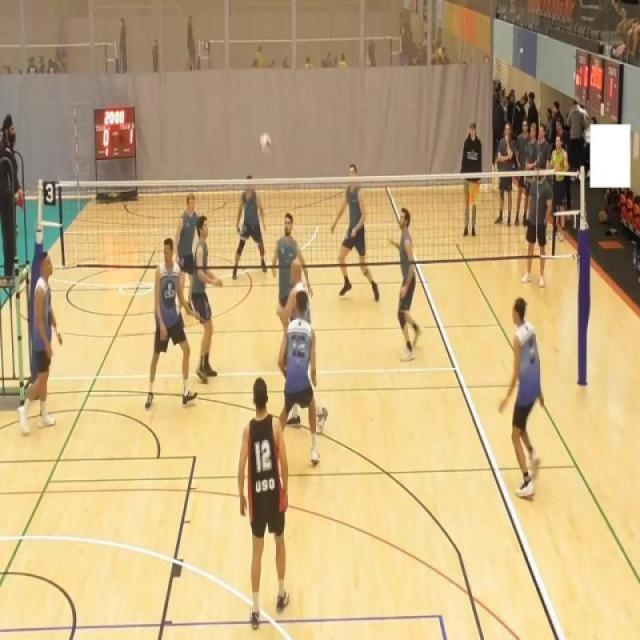volleyball: (259, 132, 273, 156)
